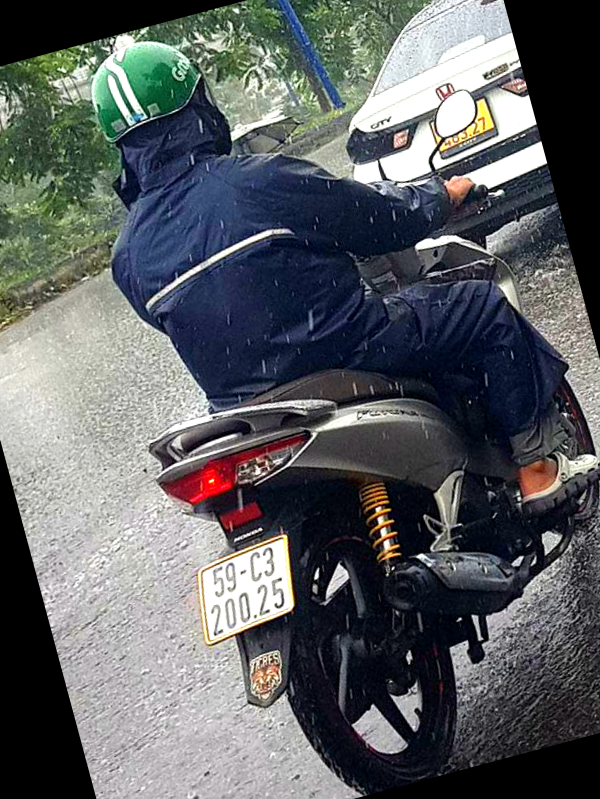number: (194, 536, 294, 646)
